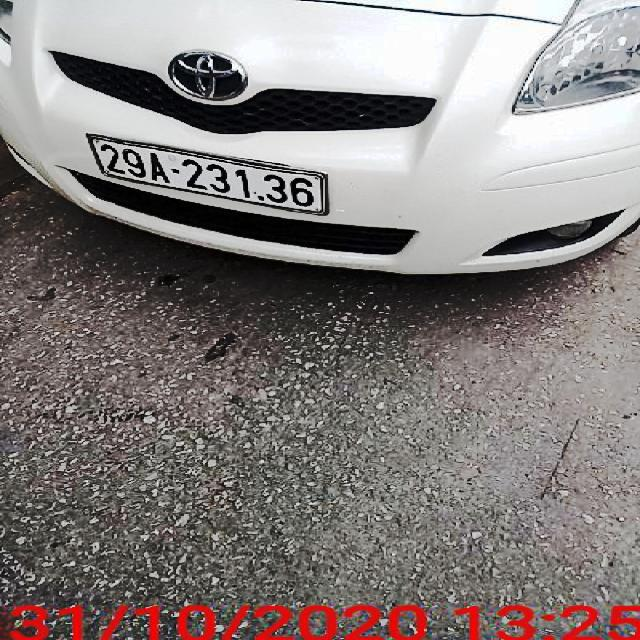license_plate: (89, 134, 327, 216)
